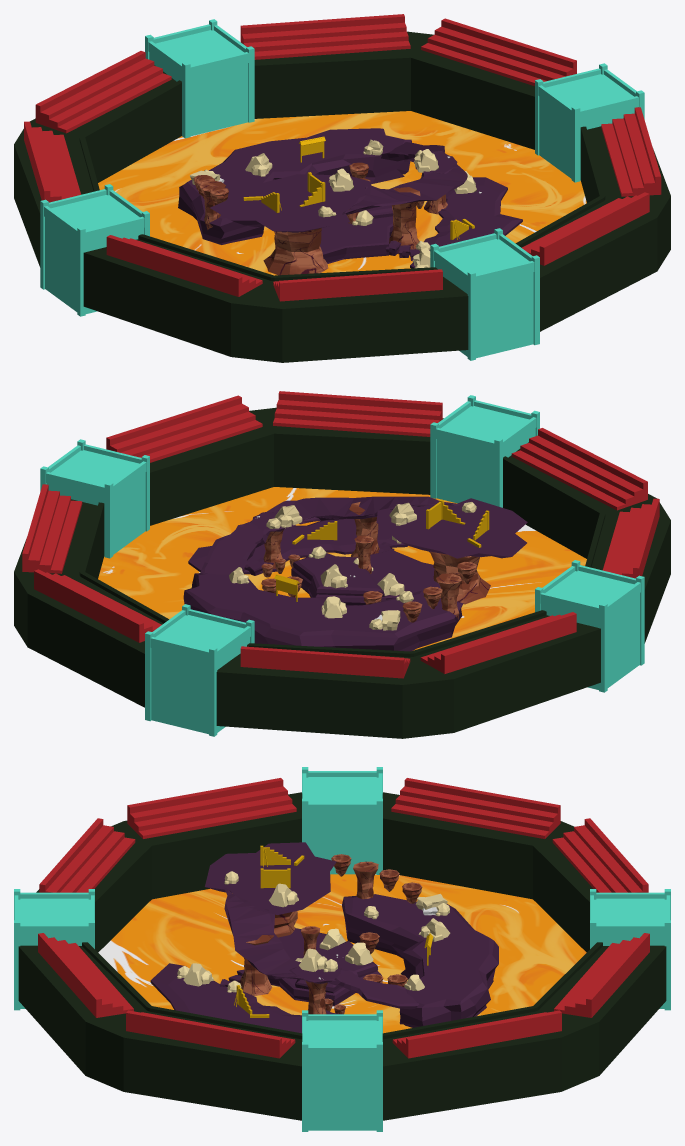
Rendered from Lava Courtyard 2.fbx.
3 renders of one model, top to bottom at view 1: azimuth 30°, elevation 25°; view 2: azimuth 150°, elevation 25°; view 3: azimuth 270°, elevation 25°, orthographic.
Parts seen in each view (by area): view 1: Wall, Cube.006, Lava, Cube.005, Cube.004, Plane.001, Plane.002, Plane, Plane.003, Plane.005, Cylinder.002, Cylinder (+2 smaller); view 2: Wall, Cube.006, Cube.005, Lava, Cube.004, Plane.001, Plane.002, Plane.003, Plane, Plane.005, Bridge 1, Cylinder.002 (+4 smaller); view 3: Wall, Cube.006, Lava, Cube.004, Plane.001, Cube.005, Plane.002, Plane, Plane.005, Plane.003, Bridge 1, Cylinder (+3 smaller).
Boxes of the visible parts, <box> form: Wall: <box>14,31,670,362</box>; Cube.006: <box>24,14,661,301</box>; Lava: <box>98,111,586,275</box>; Cube.005: <box>145,19,539,360</box>; Cube.004: <box>40,63,644,316</box>; Plane.001: <box>178,128,411,244</box>; Plane.002: <box>210,174,371,232</box>; Plane: <box>410,177,522,268</box>; Plane.003: <box>320,205,393,263</box>; Plane.005: <box>342,163,467,214</box>; Cylinder.002: <box>263,228,328,275</box>; Cylinder: <box>389,187,420,254</box>; Wall: <box>14,407,670,738</box>; Cube.006: <box>22,391,659,678</box>; Cube.005: <box>145,395,539,736</box>; Lava: <box>98,487,586,650</box>; Cube.004: <box>40,439,644,692</box>; Plane.001: <box>183,573,463,651</box>; Plane.002: <box>376,498,527,558</box>; Plane.003: <box>291,550,440,606</box>; Plane: <box>188,519,407,574</box>; Plane.005: <box>267,496,459,524</box>; Bridge 1: <box>201,522,270,574</box>; Cylinder.002: <box>429,551,490,604</box>; Wall: <box>18,792,666,1120</box>; Cube.006: <box>38,778,649,1058</box>; Lava: <box>98,874,586,1033</box>; Cube.004: <box>302,767,382,1131</box>; Plane.001: <box>342,894,498,1027</box>; Cube.005: <box>14,889,670,1010</box>; Plane.002: <box>205,842,336,914</box>; Plane: <box>150,963,301,1033</box>; Plane.005: <box>224,887,304,979</box>; Plane.003: <box>267,928,382,1006</box>; Bridge 1: <box>328,968,419,1009</box>; Cylinder: <box>239,935,273,995</box>.
Size of the model in its own units: 96004 by 15342 by 96004.
9 materials, 3 textured.
